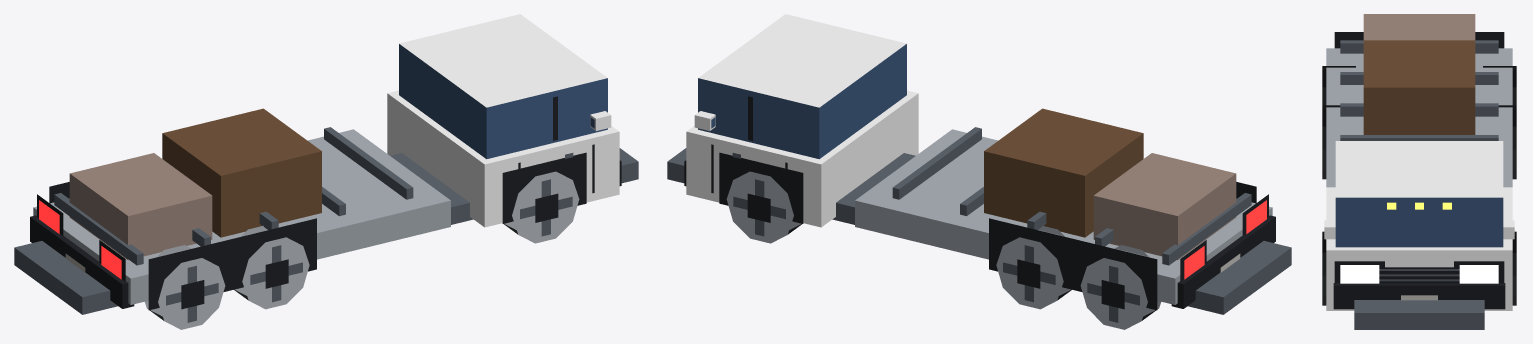
File: truck_flatbed.glb
3 views of the same model, side by side, from view 1: azimuth 30°, elevation 25°; view 2: azimuth 150°, elevation 25°; view 3: azimuth 270°, elevation 25° (orthographic). The views are drawn at different scales.
Visible parts, largest first — view 1: truck_flatbed; view 2: truck_flatbed; view 3: truck_flatbed.
Boxes of the visible parts, box(x1,y1,x2,y2) form: truck_flatbed: box(14, 14, 638, 329); truck_flatbed: box(667, 14, 1291, 329); truck_flatbed: box(1322, 14, 1516, 329).
Size of the model in its own units: 0.66 by 0.16 by 0.2124.
